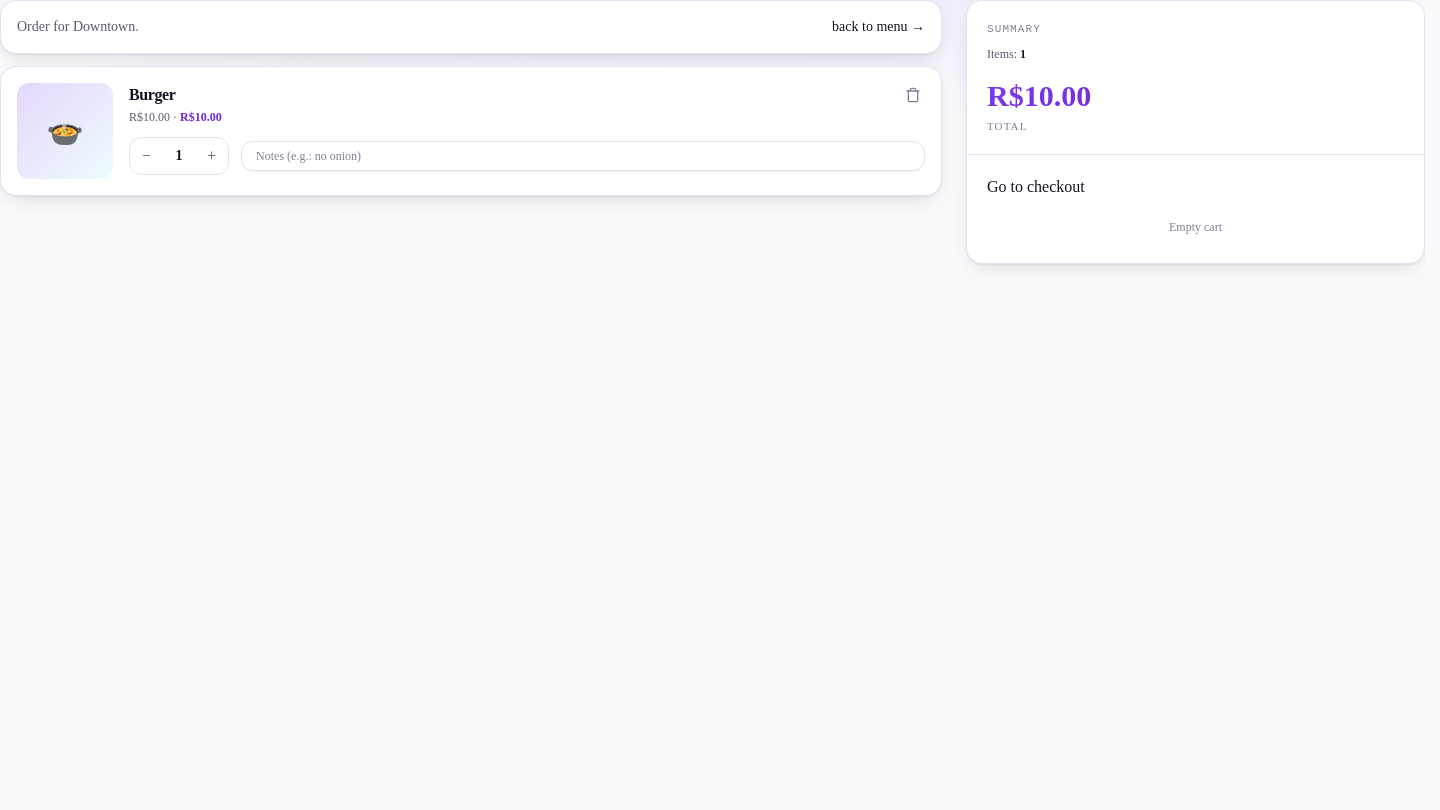
Test case: CartView › keeps the items when the clear confirmation is cancelled
The image size is (1440, 810).
Expected: the text "Burger" is shown, [129,86,176,103]
Click the button "Empty cart": (1196, 227) [987,211,1404,243]
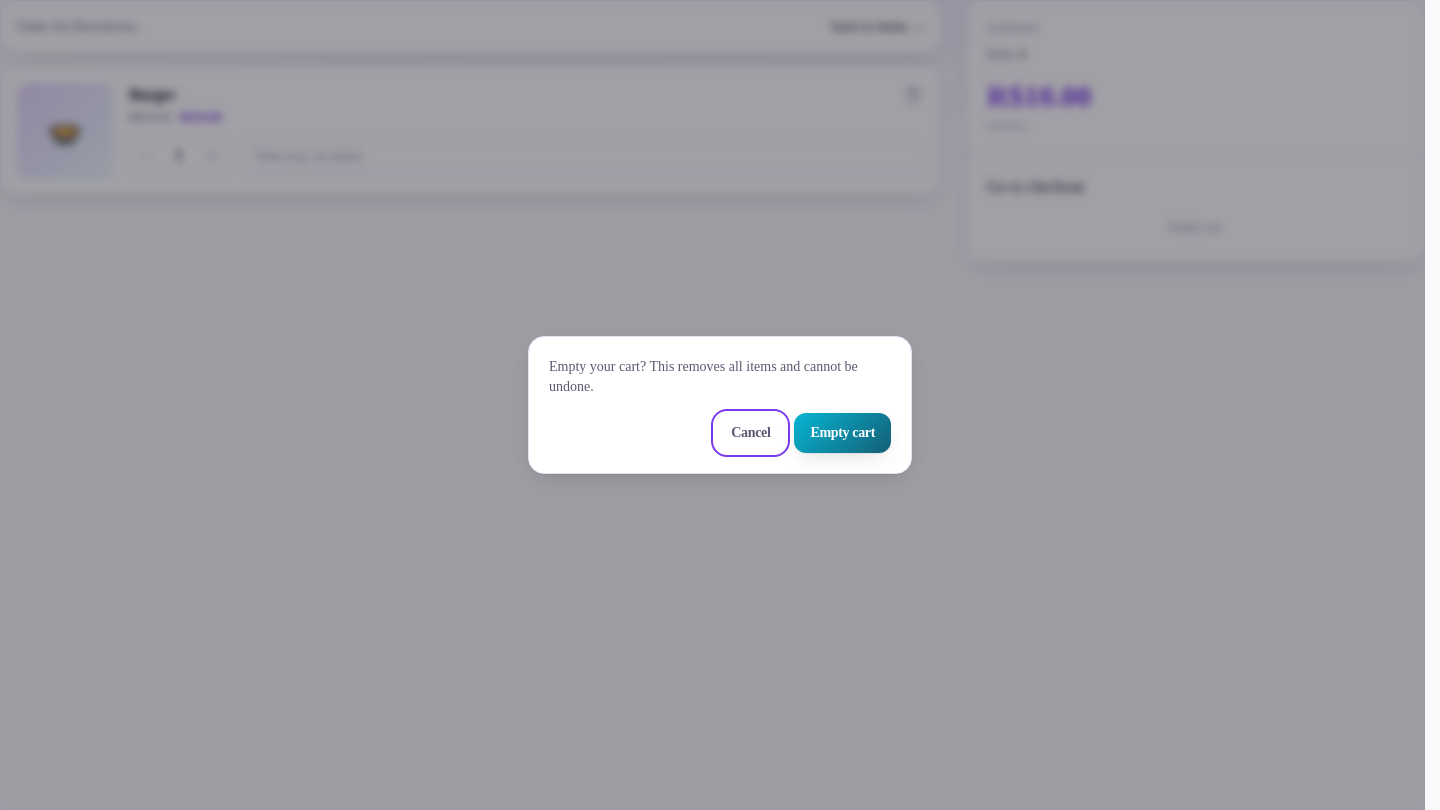
Click the button "Cancel": (751, 433) [715,413,786,453]
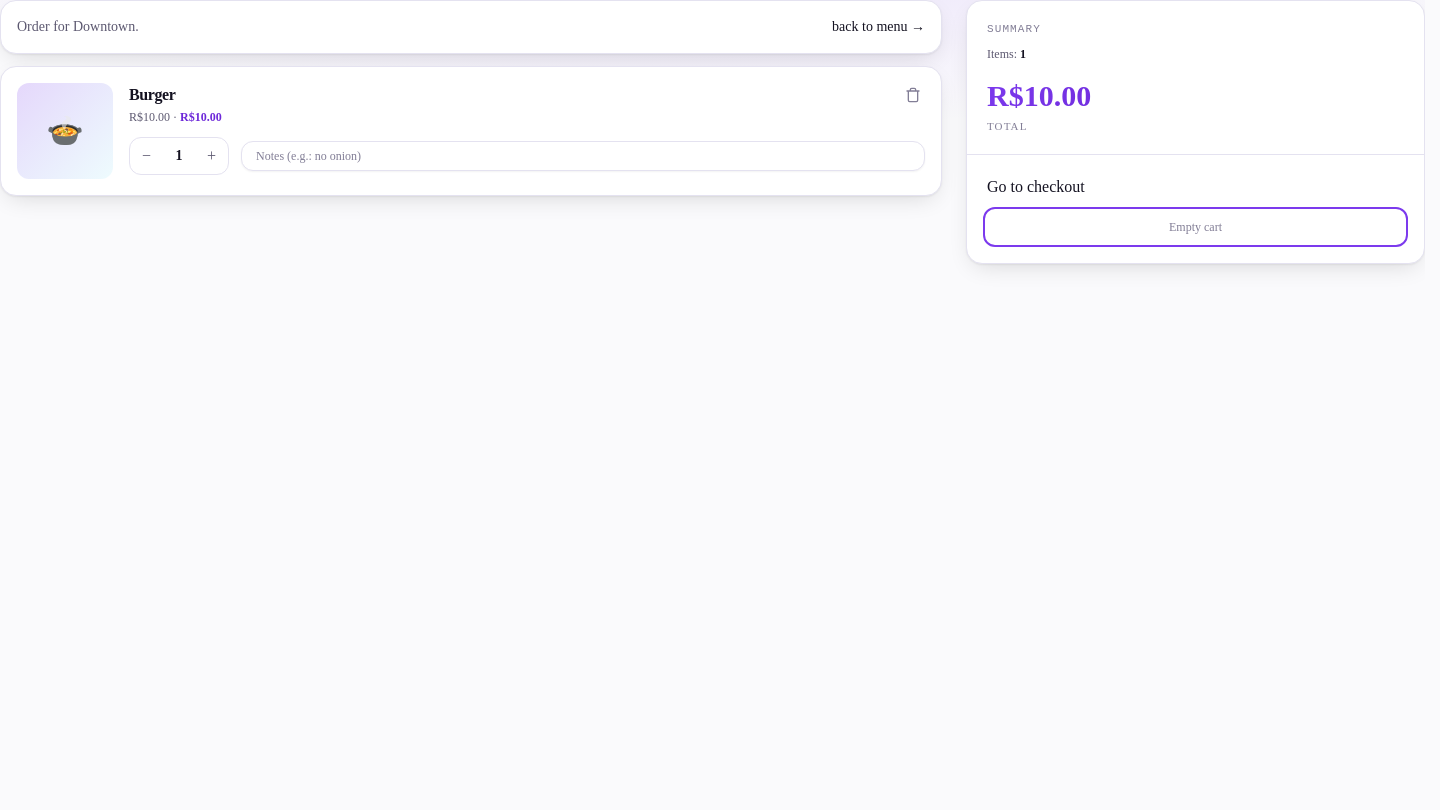
Expected: the text "Burger" is shown, [129,86,176,103]
Expected: the dialog is gone
